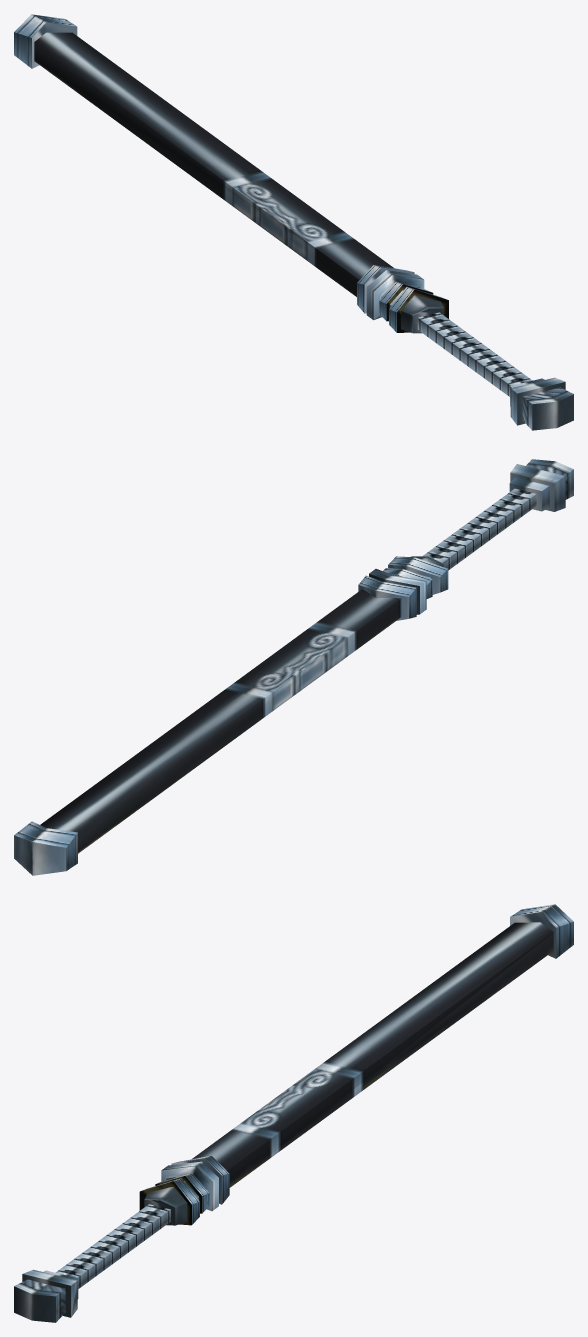
3 views of the same model, one above another, from view 1: azimuth 30°, elevation 25°; view 2: azimuth 150°, elevation 25°; view 3: azimuth 330°, elevation 25° (orthographic).
Visible parts, largest first — view 1: W903b; view 2: W903b; view 3: W903b.
Part boxes in pixels (x1,y1,x2,y2): W903b: (14, 14, 573, 430); W903b: (14, 459, 573, 875); W903b: (14, 904, 573, 1322).
Size of the model in its own units: 1.8 by 1.38 by 30.6.
1 material, 1 textured.
